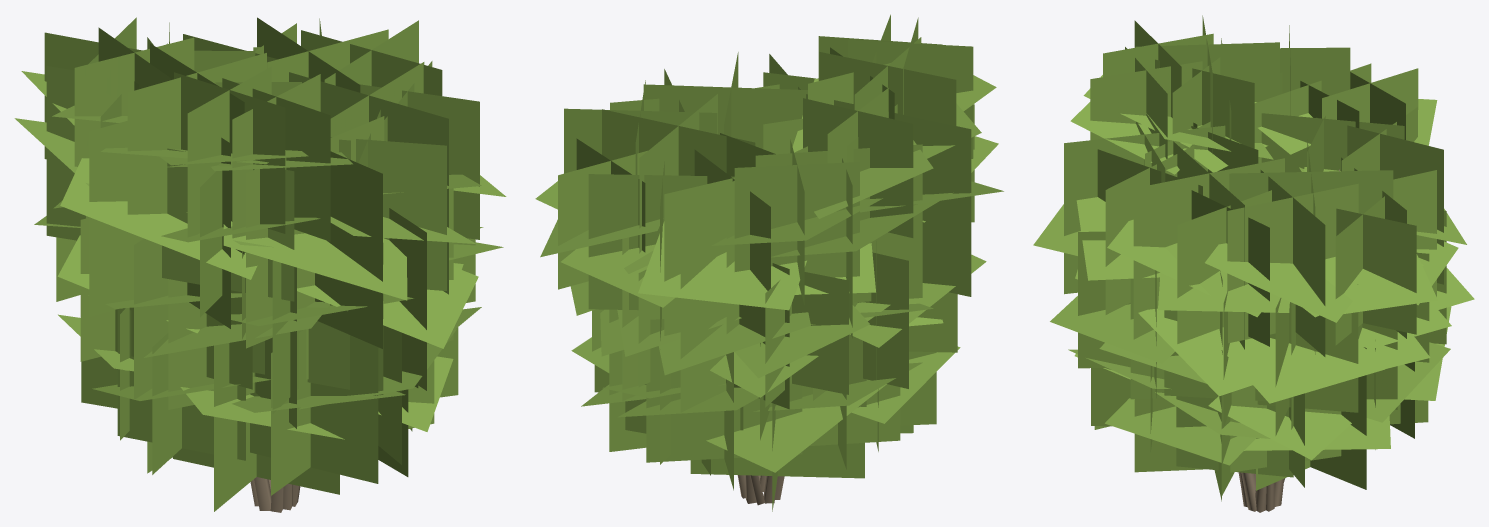
The model's file is noisetier_3_loin.glb.
The picture shows the model from 3 angles, left to right: view 1: azimuth 30°, elevation 25°; view 2: azimuth 150°, elevation 25°; view 3: azimuth 270°, elevation 25°; orthographic projection. The views are drawn at different scales.
Parts seen in each view (by area): view 1: Noisetier_T3_Leger_Loin; view 2: Noisetier_T3_Leger_Loin; view 3: Noisetier_T3_Leger_Loin.
Part boxes in pixels (bbox=[...]): Noisetier_T3_Leger_Loin: bbox=[14, 17, 506, 512]; Noisetier_T3_Leger_Loin: bbox=[535, 14, 1003, 511]; Noisetier_T3_Leger_Loin: bbox=[1033, 15, 1474, 512].
Bounding box in the file's own units: 6.19 × 6.28 × 6.03.
